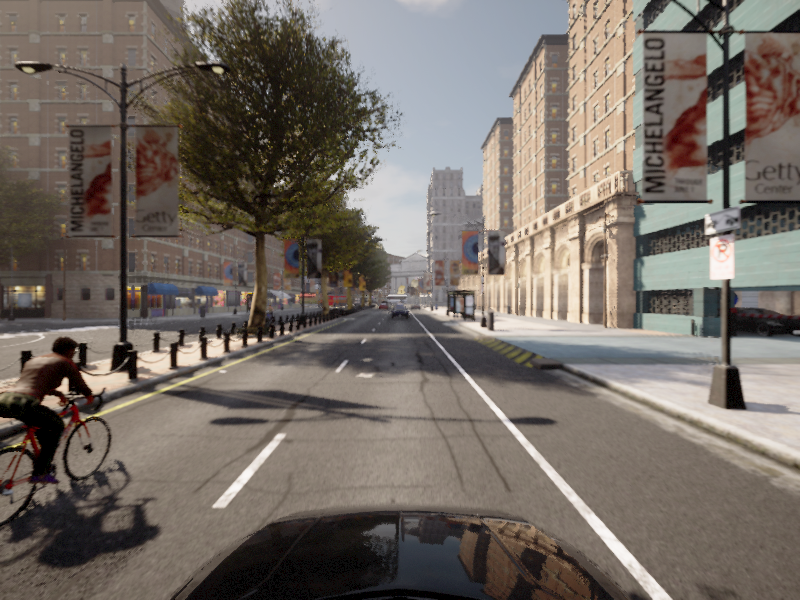vehicle: (1, 332, 135, 551), (261, 304, 277, 323), (390, 305, 408, 318), (253, 303, 267, 318)
